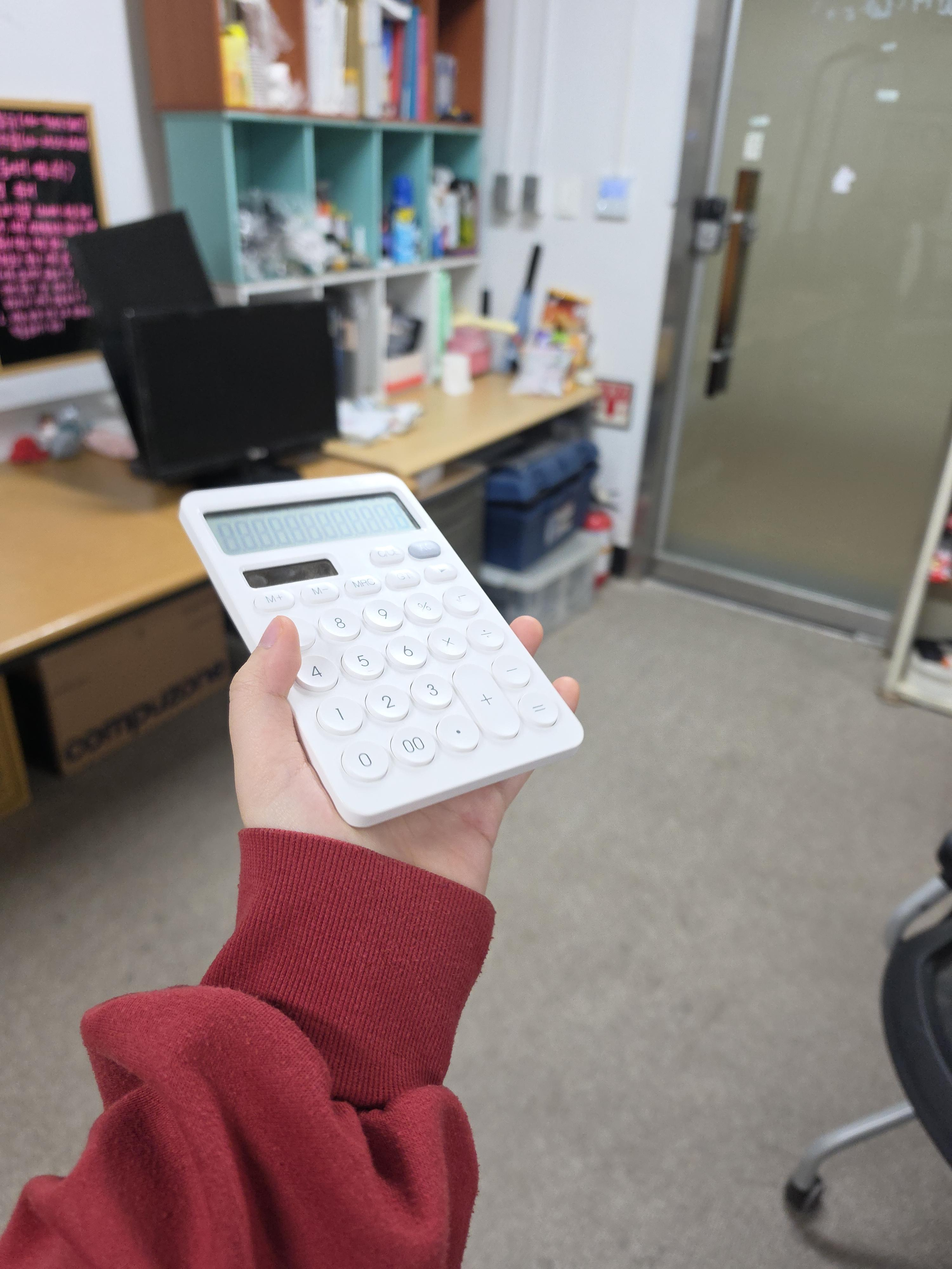calculator: (177, 471, 586, 830)
